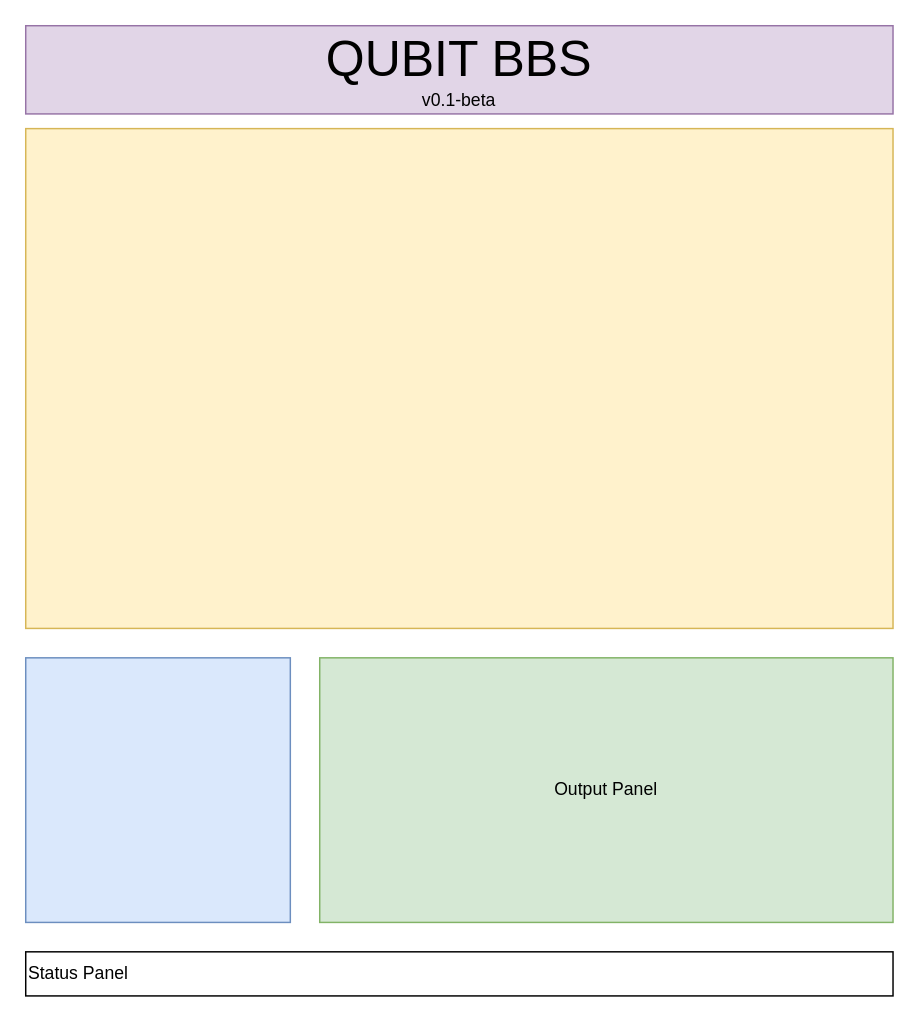
Image size: 919x1022. Some labels were removed from this diagram. Here are the shapes that lost their labels. From the top down, the centre of each, then its label:
At (458,377): "Operations Panel".
At (157,789): "Menu Panel".
